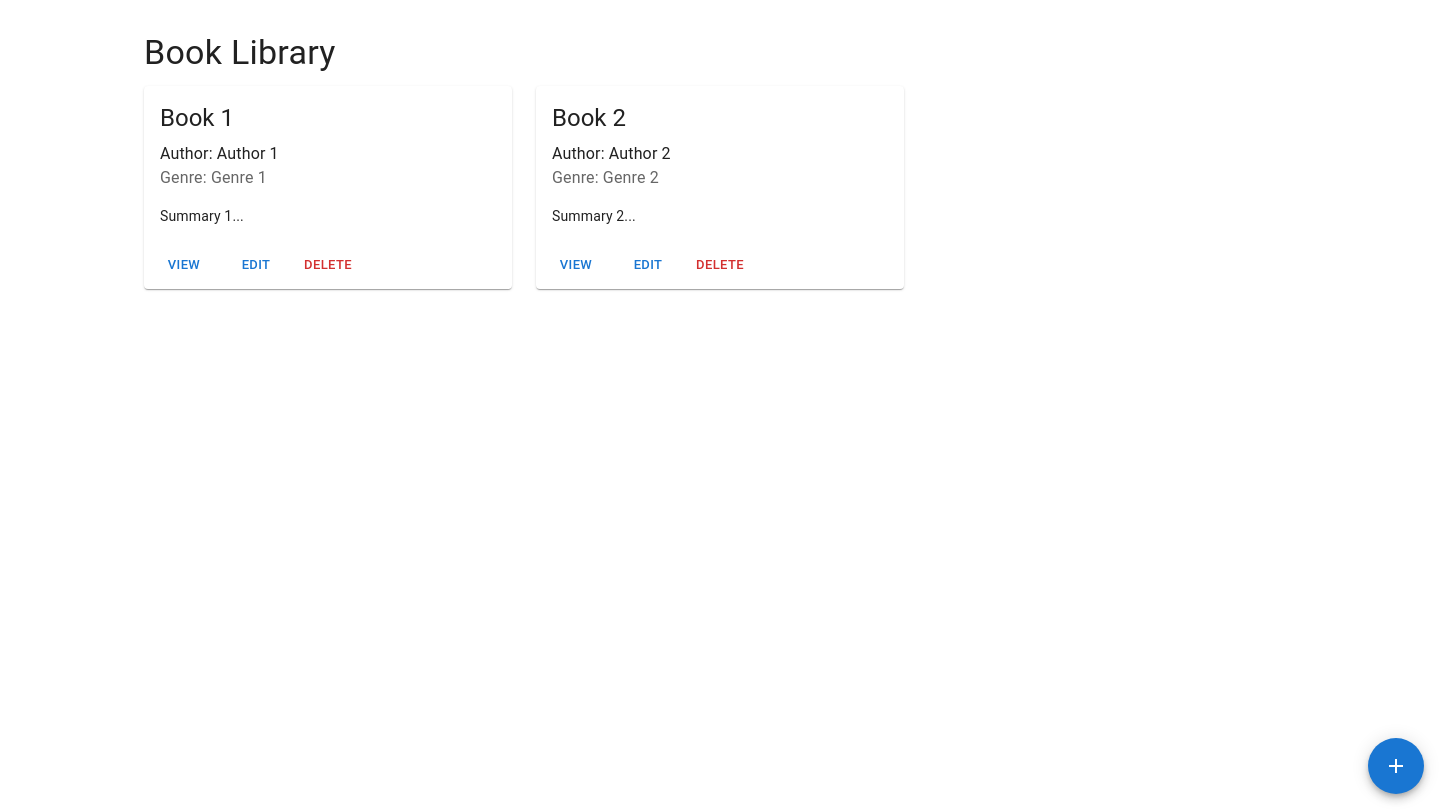
BookList Page › opens delete confirmation dialog on delete click
Expected: the heading "Book 1" is shown, 160,104 -> 234,132
What coordinates should you click on to do the following:
click the button "Delete" below "Summary 1..."
I would click on:
 (328, 266)
Its box is 296,250 -> 360,281.
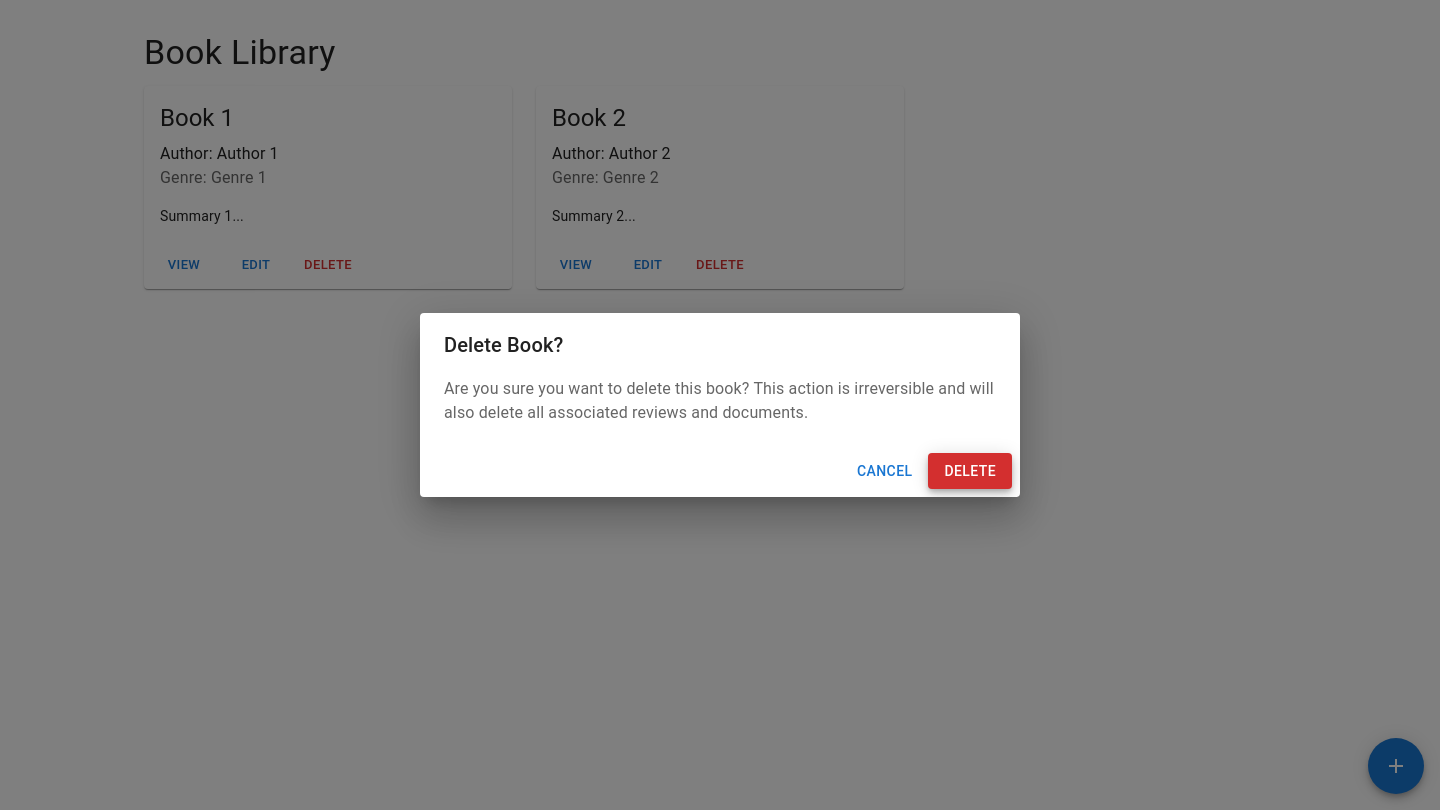
Result: the dialog is shown at 420,313 -> 1020,497
Result: the heading "Delete Book?" is shown at 444,333 -> 563,357
